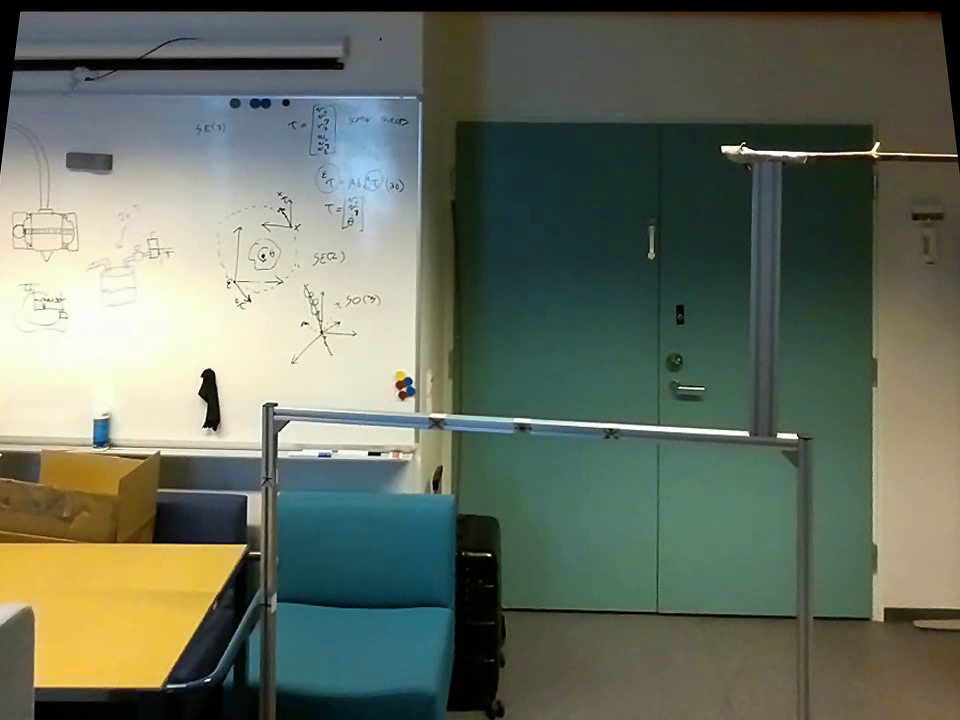aluminum_frame: (269, 402, 797, 449), (1, 429, 423, 466), (7, 81, 425, 108), (745, 162, 784, 439), (789, 426, 823, 716), (256, 400, 283, 713), (408, 91, 427, 445)
branch: (811, 126, 954, 172)
